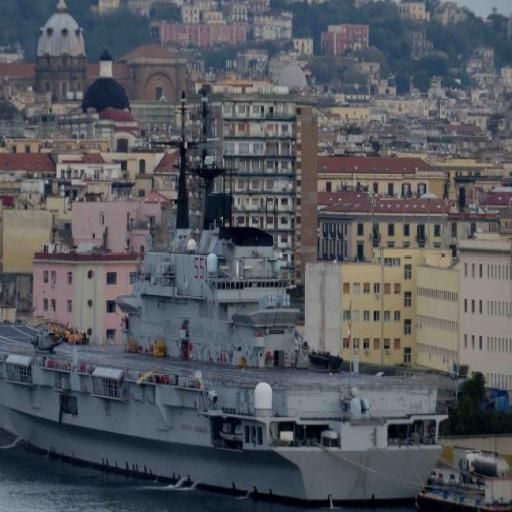Portanaves: (1, 94, 451, 511)
